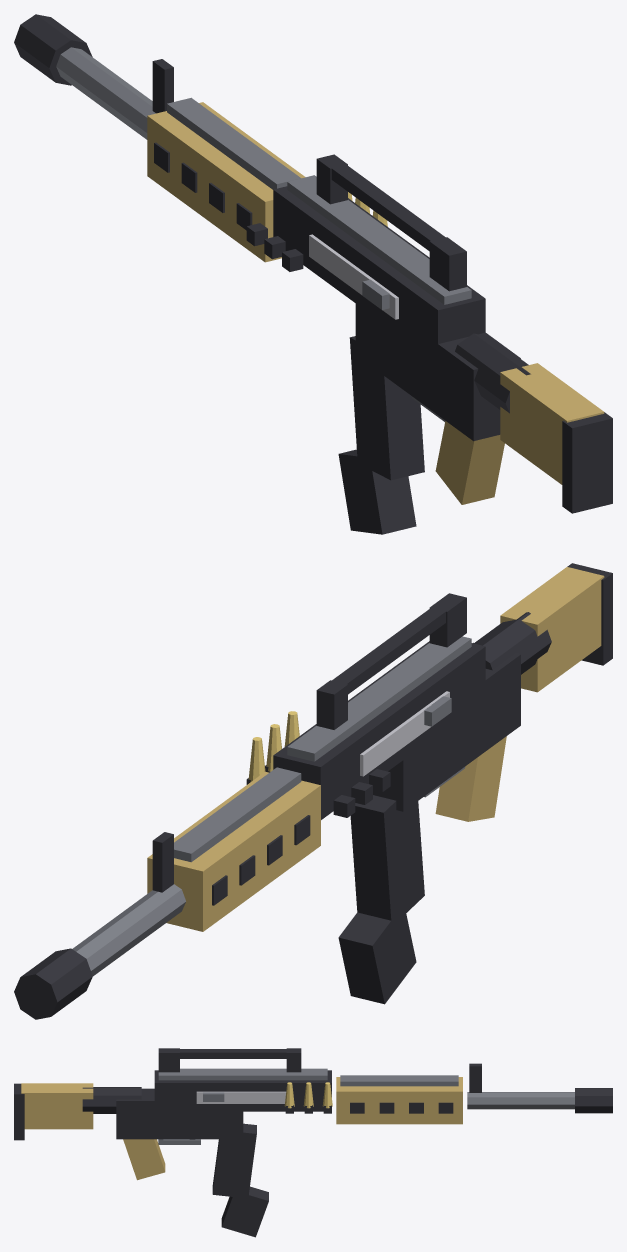
Rendered from burst_assault.glb.
3 views of the same model, one above another, from view 1: azimuth 30°, elevation 25°; view 2: azimuth 150°, elevation 25°; view 3: azimuth 270°, elevation 25° (orthographic). The views are drawn at different scales.
Parts seen in each view (by area): view 1: BurstAssault; view 2: BurstAssault; view 3: BurstAssault.
Boxes of the visible parts, <box> form: BurstAssault: <box>14,14,612,534</box>; BurstAssault: <box>14,563,612,1019</box>; BurstAssault: <box>14,1048,612,1237</box>.
Size of the model in its own units: 0.15 by 0.4758 by 1.42.
